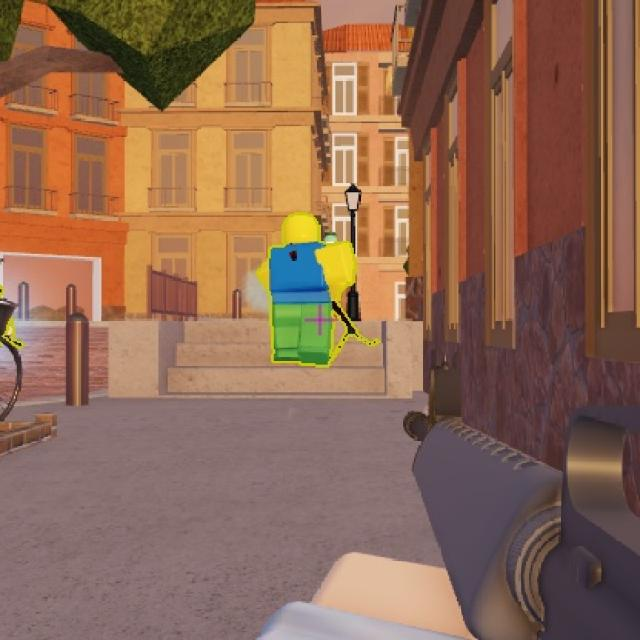player: (253, 208, 369, 378)
